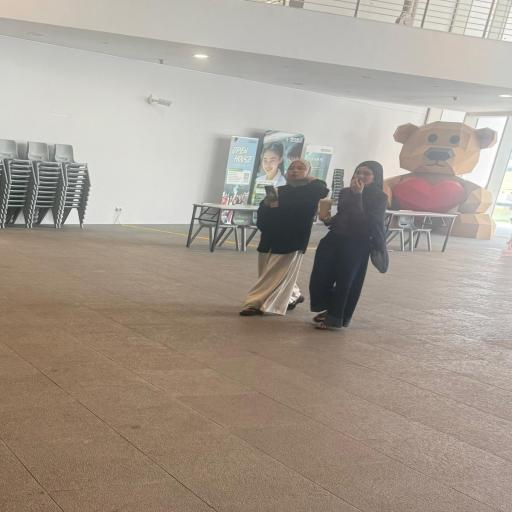person_left: (238, 158, 330, 316), (308, 160, 390, 330)
